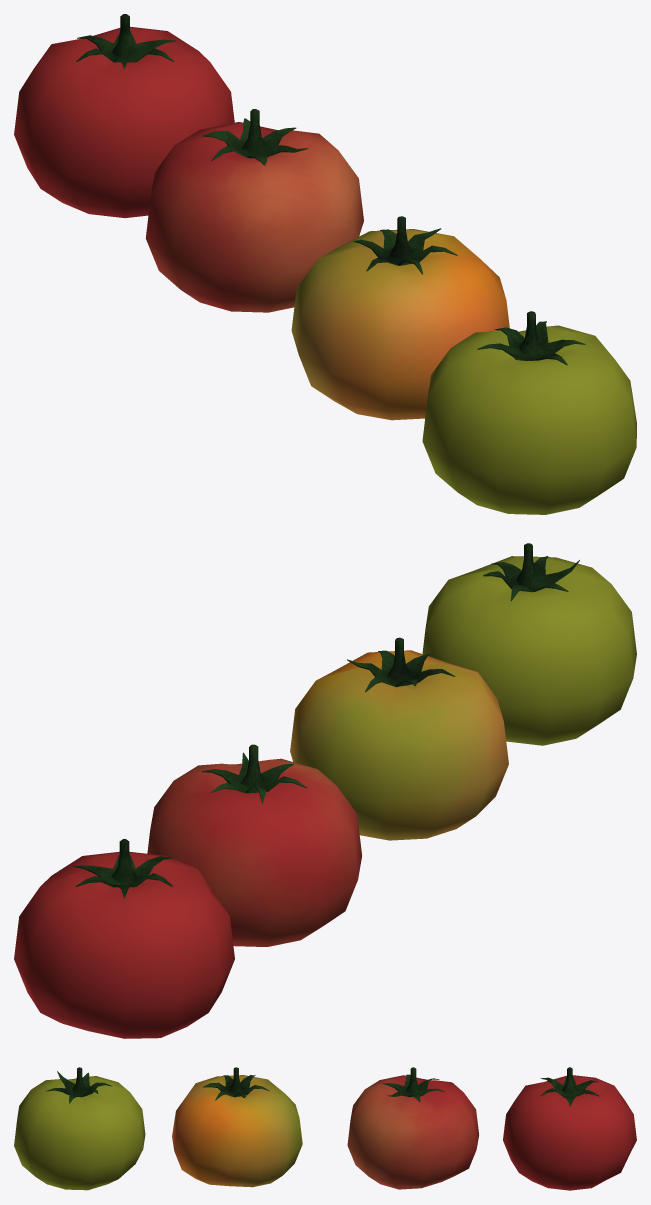
The model's file is 4_Tomatos.fbx.
3 renders of one model, top to bottom at view 1: azimuth 30°, elevation 25°; view 2: azimuth 150°, elevation 25°; view 3: azimuth 270°, elevation 25°, orthographic. The views are drawn at different scales.
Parts seen in each view (by area): view 1: Tomato._green, Tomato_orange_red, Tomato._orange_green, Tomato_red; view 2: Tomato_red, Tomato._orange_green, Tomato._green, Tomato_orange_red; view 3: Tomato_red, Tomato._green, Tomato_orange_red, Tomato._orange_green.
Boxes of the visible parts, bbox=[...] form: Tomato._green: bbox=[422, 311, 636, 514]; Tomato_orange_red: bbox=[145, 109, 363, 312]; Tomato._orange_green: bbox=[291, 216, 509, 420]; Tomato_red: bbox=[14, 14, 234, 218]; Tomato_red: bbox=[14, 839, 234, 1038]; Tomato._orange_green: bbox=[290, 637, 508, 840]; Tomato._green: bbox=[422, 543, 636, 745]; Tomato_orange_red: bbox=[147, 744, 361, 946]; Tomato_red: bbox=[503, 1067, 636, 1190]; Tomato._green: bbox=[14, 1067, 145, 1190]; Tomato_orange_red: bbox=[347, 1067, 478, 1189]; Tomato._orange_green: bbox=[172, 1067, 302, 1187].
Bounding box in the file's own units: 196 × 180 × 915.
1 material, 1 textured.
